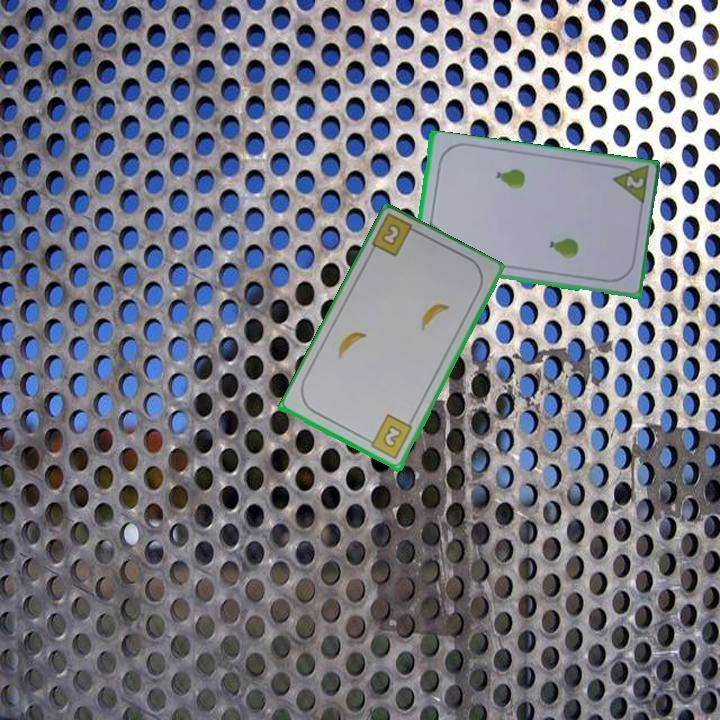2b: (362, 411, 415, 462), (378, 223, 401, 249)
2p: (608, 161, 652, 208)
